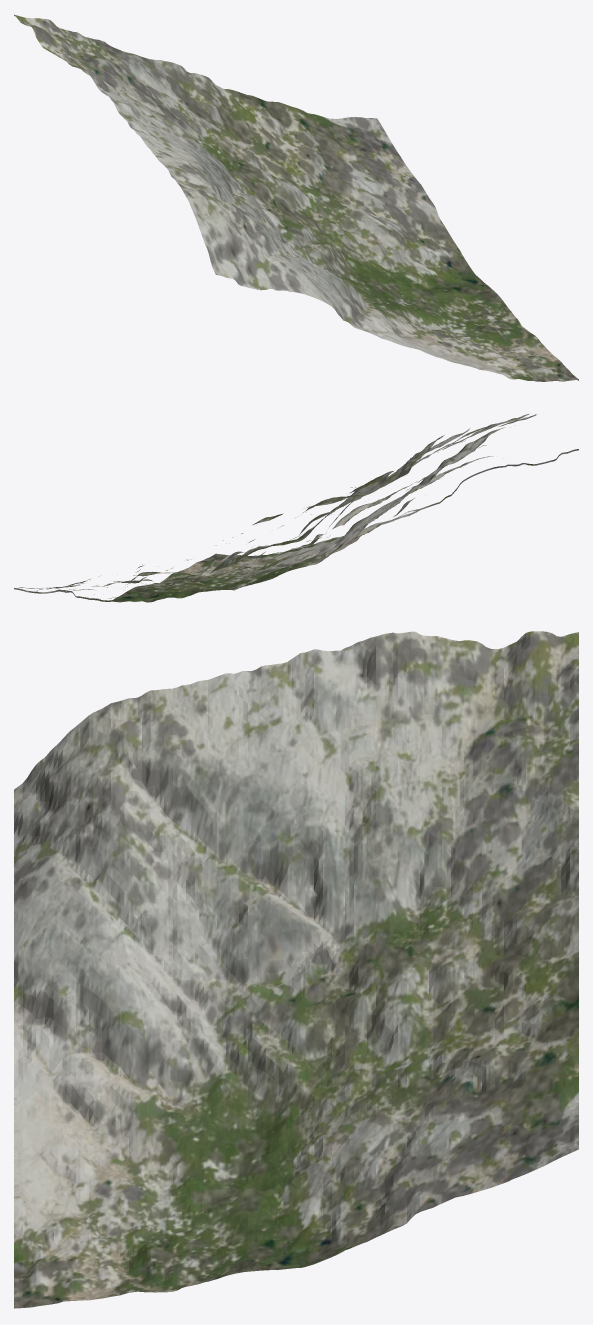
The picture shows the model from 3 angles, top to bottom: view 1: azimuth 30°, elevation 25°; view 2: azimuth 150°, elevation 25°; view 3: azimuth 270°, elevation 25°; orthographic projection. The views are drawn at different scales.
Size of the model in its own units: 250 by 203 by 241.
1 material, 1 textured.
